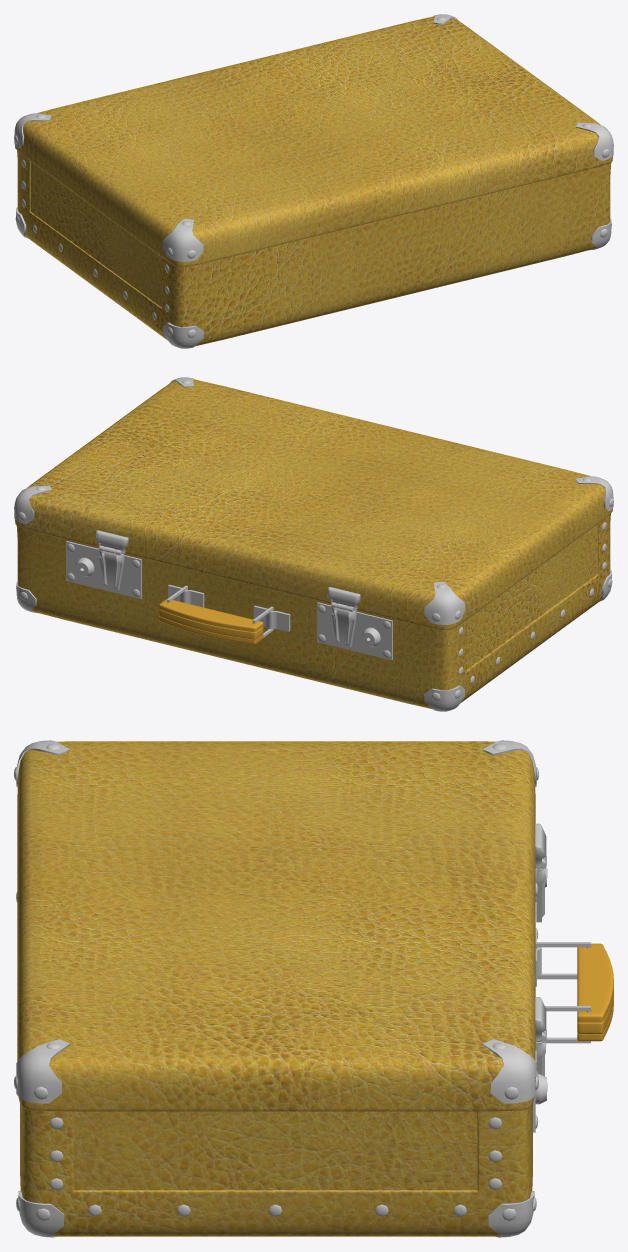
File: suitcase_obj.obj
The picture shows the model from 3 angles, top to bottom: view 1: azimuth 30°, elevation 25°; view 2: azimuth 150°, elevation 25°; view 3: azimuth 270°, elevation 25°; orthographic projection. The views are drawn at different scales.
Parts seen in each view (by area): view 1: suitxase suitcase88, suitxase suitcase87, suitxase suitcase7, suitxase suitcase31, suitxase suitcase11; view 2: suitxase suitcase88, suitxase suitcase87, suitxase suitcase32, suitxase suitcase52, suitxase suitcase86, suitxase suitcase3, suitxase suitcase56, suitxase suitcase43, suitxase suitcase27, suitxase suitcase15, suitxase suitcase34, suitxase suitcase55 (+2 smaller); view 3: suitxase suitcase88, suitxase suitcase87, suitxase suitcase32, suitxase suitcase11, suitxase suitcase15, suitxase suitcase23, suitxase suitcase19.
Boxes of the visible parts, x1,y1,x2,y2 form: suitxase suitcase88: (15,16,612,267); suitxase suitcase87: (17,150,611,345); suitxase suitcase7: (162,218,203,261); suitxase suitcase31: (163,322,203,348); suitxase suitcase11: (575,122,613,160); suitxase suitcase88: (15,379,612,630); suitxase suitcase87: (16,513,610,708); suitxase suitcase32: (159,599,263,644); suitxase suitcase52: (317,602,392,660); suitxase suitcase86: (66,541,141,598); suitxase suitcase3: (424,581,465,624); suitxase suitcase56: (331,607,356,647); suitxase suitcase43: (99,550,124,590); suitxase suitcase27: (424,685,465,711); suitxase suitcase15: (14,485,52,523); suitxase suitcase34: (253,605,290,631); suitxase suitcase55: (327,587,360,610); suitxase suitcase88: (17,741,535,1111); suitxase suitcase87: (20,1105,532,1236); suitxase suitcase32: (577,943,613,1041); suitxase suitcase11: (16,1039,69,1103); suitxase suitcase15: (483,1039,536,1103); suitxase suitcase23: (488,1191,534,1237); suitxase suitcase19: (18,1191,64,1237).
Size of the model in its own units: 80.3 by 21.37 by 61.31.
